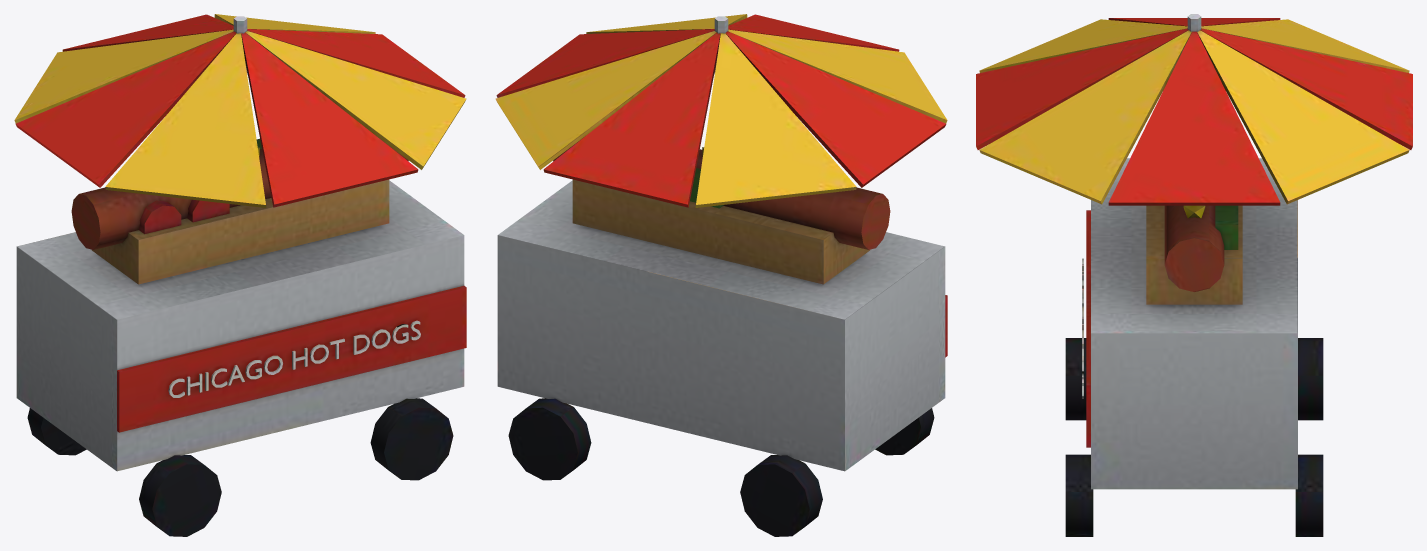
File: carrito_perritos.glb
3 views of the same model, side by side, from view 1: azimuth 30°, elevation 25°; view 2: azimuth 150°, elevation 25°; view 3: azimuth 270°, elevation 25° (orthographic). The views are drawn at different scales.
Parts seen in each view (by area): view 1: carrito_perritos; view 2: carrito_perritos; view 3: carrito_perritos.
Part boxes in pixels (bbox=[...]): carrito_perritos: bbox=[14, 14, 466, 536]; carrito_perritos: bbox=[495, 14, 947, 536]; carrito_perritos: bbox=[976, 14, 1412, 536].
Size of the model in its own units: 1.9 by 2.2 by 1.9.
1 material, 1 textured.
